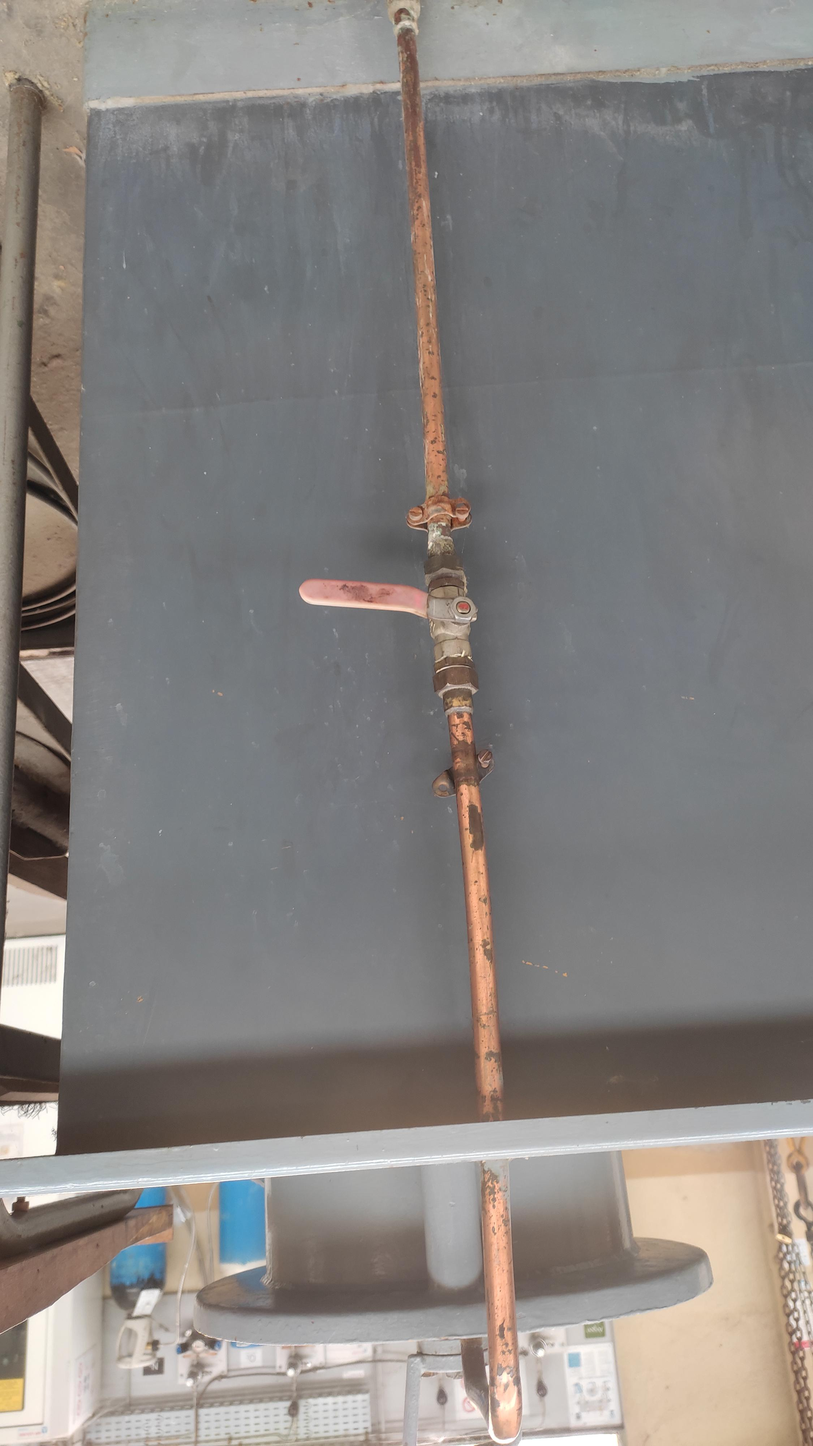closed valve: (291, 573, 483, 664)
